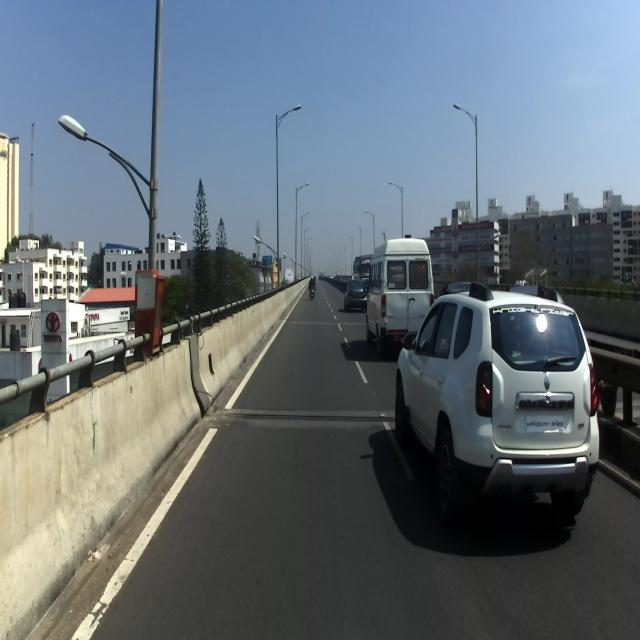bus ahead at: (367, 238, 429, 336)
car ahead at: (393, 283, 604, 518)
